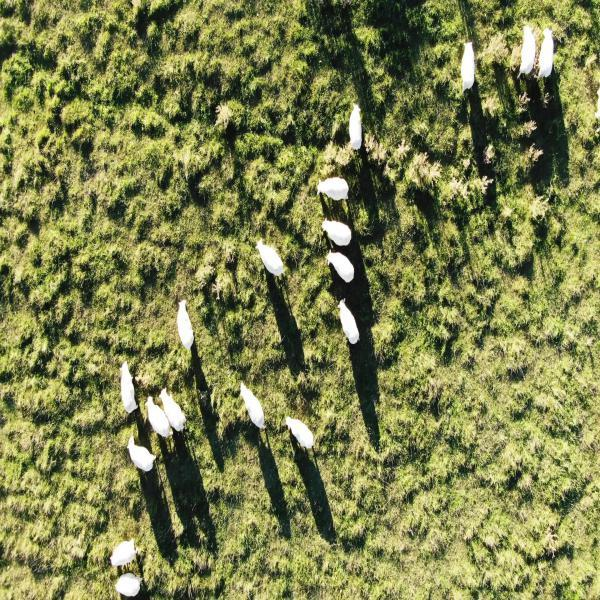sheep: (236, 377, 273, 443), (155, 383, 190, 437), (333, 292, 363, 352), (283, 411, 319, 460), (252, 235, 289, 282), (141, 392, 174, 443), (172, 296, 199, 356), (124, 434, 159, 479), (533, 24, 558, 86), (516, 20, 539, 84), (118, 357, 142, 418), (315, 169, 353, 206), (457, 38, 479, 97), (107, 535, 141, 571), (325, 248, 356, 287), (321, 213, 354, 249), (346, 101, 367, 155), (111, 571, 146, 599)
